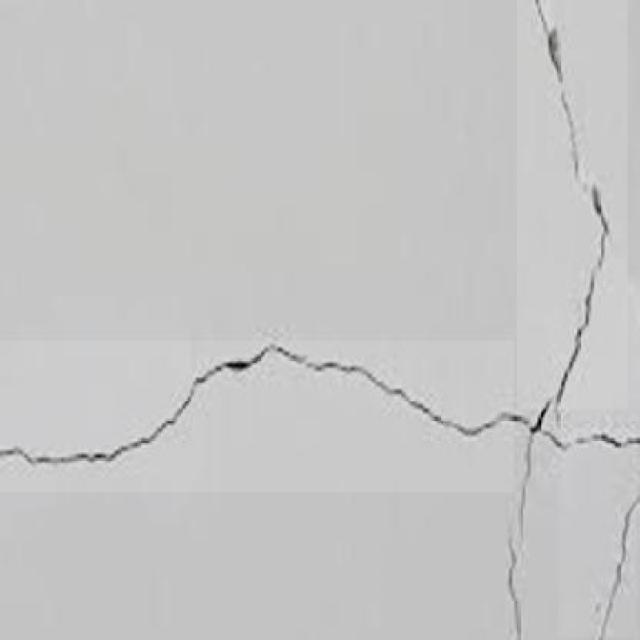Crack: (6, 333, 516, 487), (512, 9, 640, 419), (577, 482, 640, 632), (504, 437, 538, 640), (556, 425, 640, 470)
